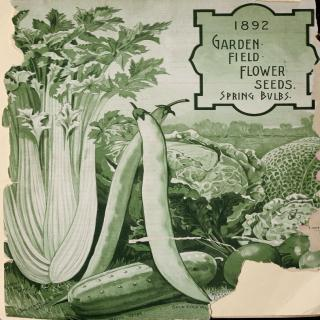Cucumber: (67, 250, 216, 316)
